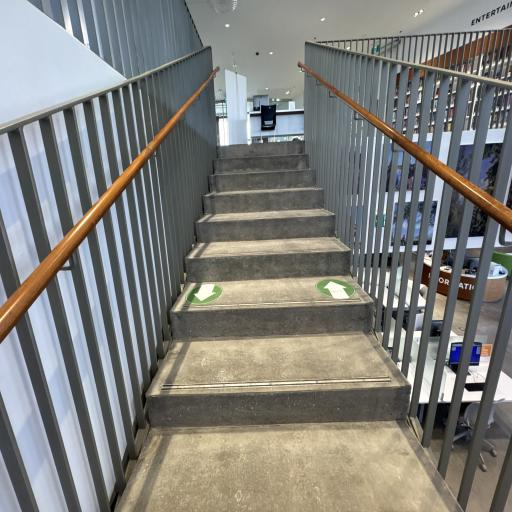Stairs: (117, 141, 461, 512)
